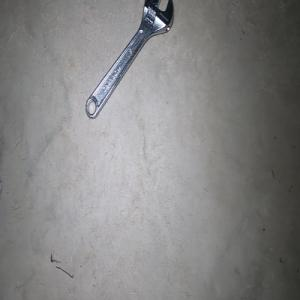Wrench: (85, 0, 173, 118)
